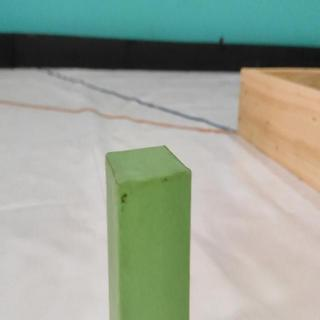greenbox: (103, 144, 193, 320)
